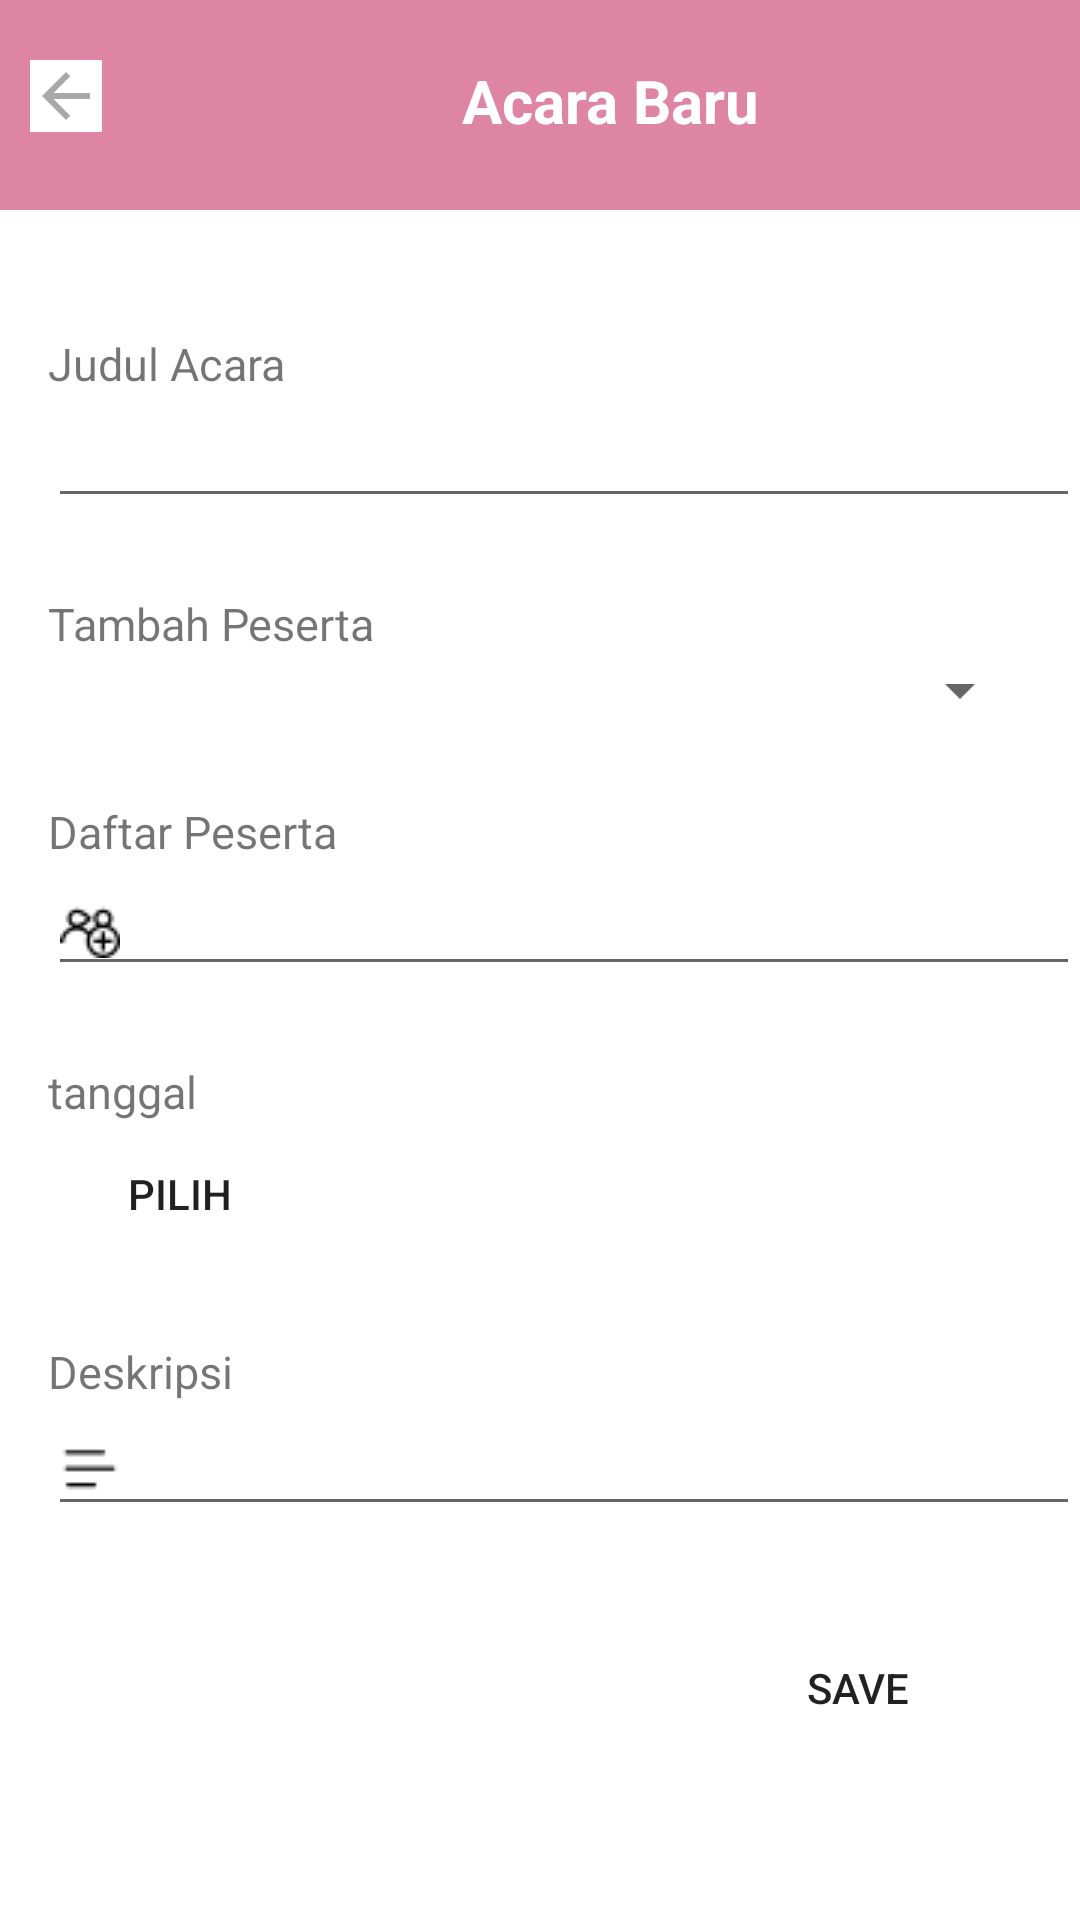

Icon bounding boxes for this 1080w x 1920h phone screenshot, format (x1, y1, x2, y2):
arrow back: (30, 60, 102, 132)
